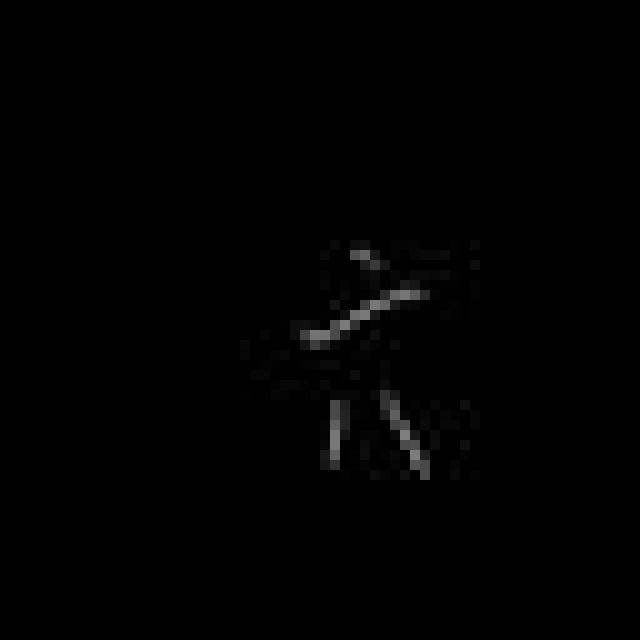6 -six-: (292, 236, 440, 498)
